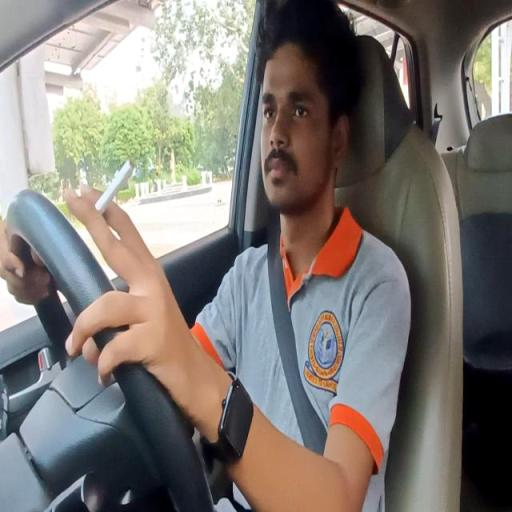Smoking: (59, 35, 416, 512)
